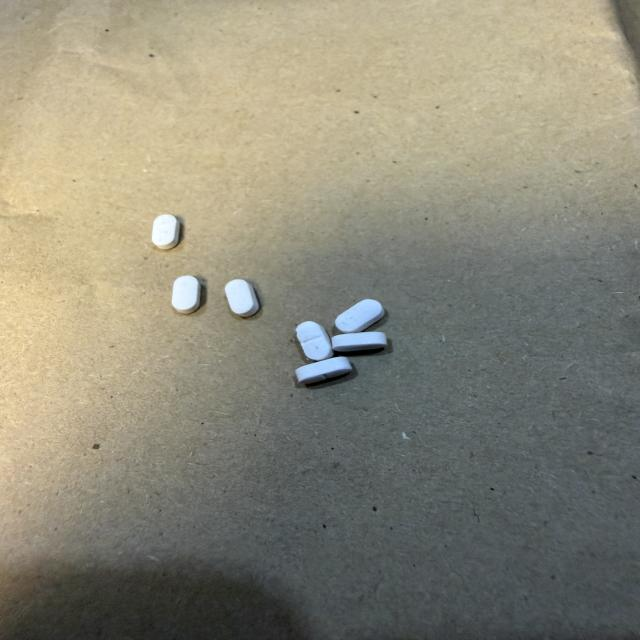pill: (336, 299, 384, 333), (296, 357, 351, 383), (296, 321, 332, 360), (225, 280, 259, 317), (332, 332, 387, 351), (172, 276, 200, 313), (152, 215, 179, 249)
